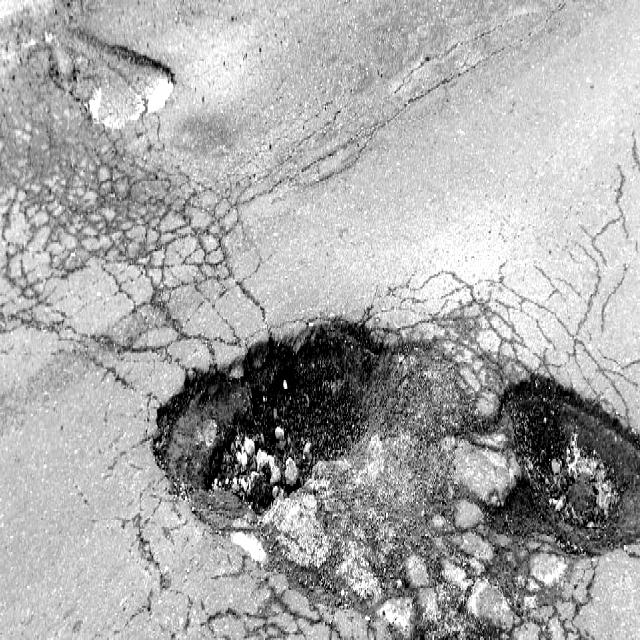pathole: (141, 211, 640, 624), (6, 3, 191, 164)
